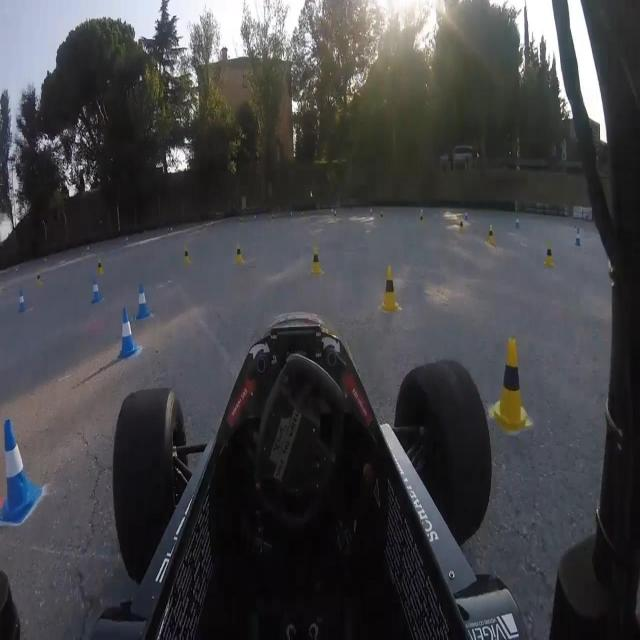blue_cone: (0, 414, 42, 529), (119, 303, 140, 362), (135, 281, 152, 324), (89, 277, 104, 307), (18, 286, 26, 316), (574, 228, 582, 249), (513, 214, 520, 231)
yellow_cone: (491, 332, 533, 434), (380, 264, 402, 313), (308, 245, 322, 278), (542, 242, 554, 269), (232, 242, 244, 266), (180, 245, 192, 269), (485, 222, 495, 247), (95, 256, 105, 279), (457, 218, 464, 235), (36, 269, 42, 288)
